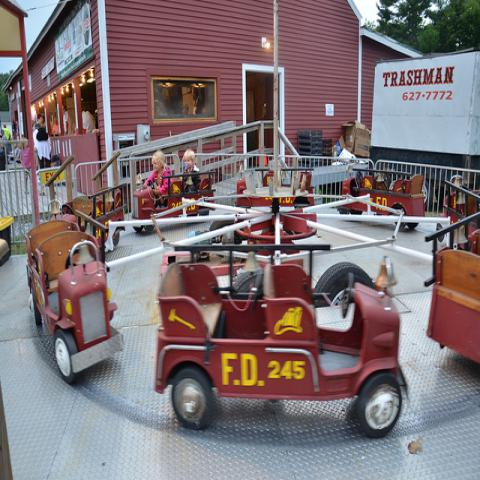truck: (154, 246, 412, 440), (25, 215, 125, 386), (371, 52, 479, 176), (423, 174, 479, 294), (60, 180, 127, 253), (133, 171, 215, 220)
